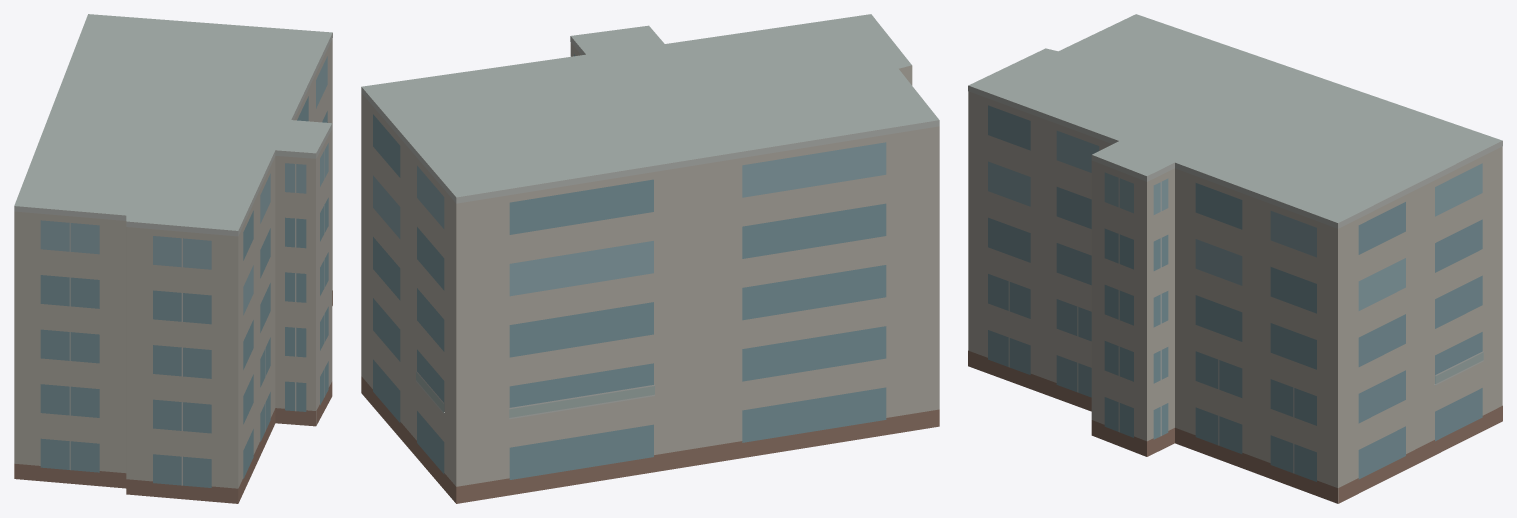
The model's file is survey-upis-32526497.glb.
3 views of the same model, side by side, from view 1: azimuth 30°, elevation 25°; view 2: azimuth 150°, elevation 25°; view 3: azimuth 270°, elevation 25° (orthographic). The views are drawn at different scales.
Parts seen in each view (by area): view 1: survey-upis-32526497.tmp; view 2: survey-upis-32526497.tmp; view 3: survey-upis-32526497.tmp.
Part boxes in pixels (left/top/right/bottom): survey-upis-32526497.tmp: left=14, top=14, right=332, bottom=503; survey-upis-32526497.tmp: left=361, top=14, right=939, bottom=503; survey-upis-32526497.tmp: left=968, top=14, right=1502, bottom=503.
Bounding box in the file's own units: 19.35 × 12.1 × 20.89.
